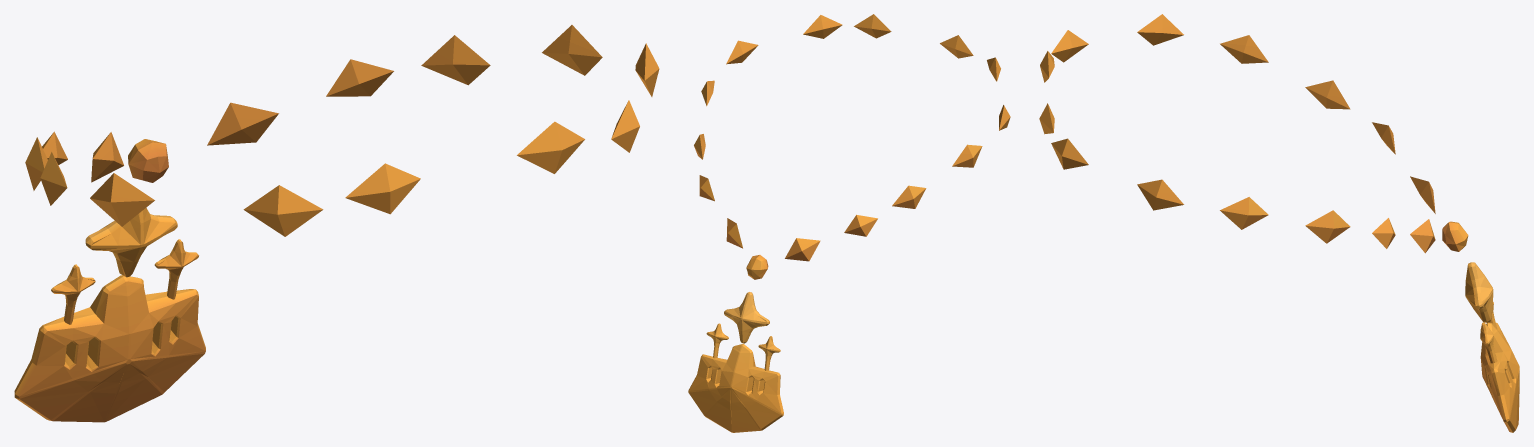
The model's file is CharSkyKid_Neck_AP09Pendant.glb.
3 views of the same model, side by side, from view 1: azimuth 30°, elevation 25°; view 2: azimuth 150°, elevation 25°; view 3: azimuth 270°, elevation 25° (orthographic). The views are drawn at different scales.
Parts seen in each view (by area): view 1: CharSkyKid_Neck_AP09Pendant; view 2: CharSkyKid_Neck_AP09Pendant; view 3: CharSkyKid_Neck_AP09Pendant.
Part boxes in pixels (<box>): CharSkyKid_Neck_AP09Pendant: <box>14,25,659,422</box>; CharSkyKid_Neck_AP09Pendant: <box>688,14,1010,432</box>; CharSkyKid_Neck_AP09Pendant: <box>1039,14,1519,432</box>.
Bounding box in the file's own units: 1.79 × 1.7 × 2.12.
Materials: 1 (1 with a texture image).
